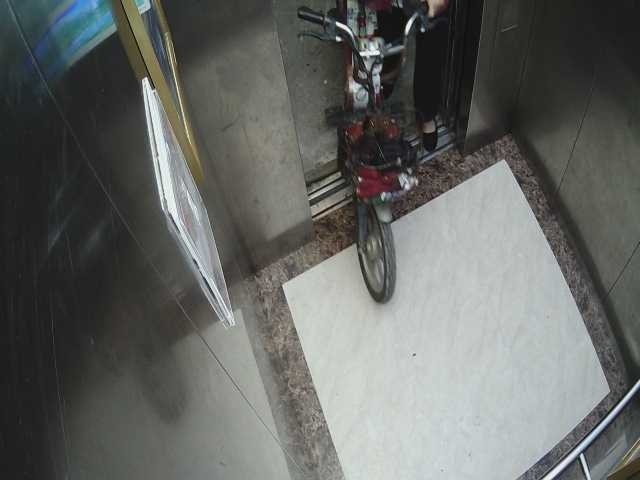emotor: (294, 5, 428, 317)
